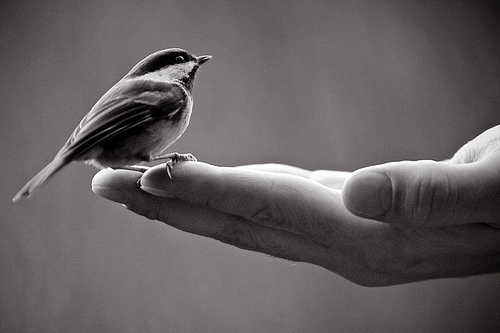bird: (15, 35, 219, 216)
